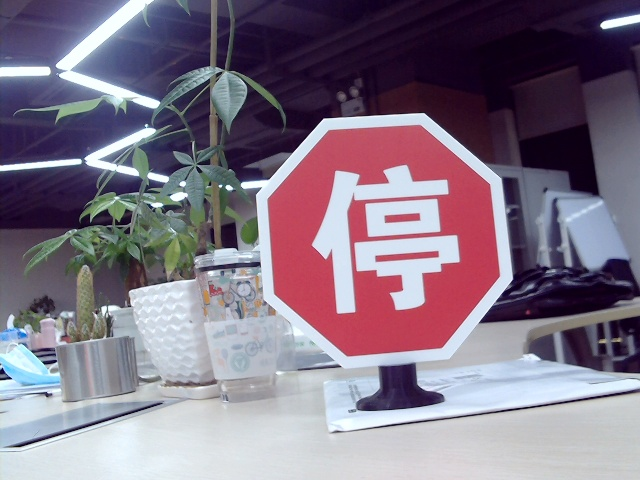stop: (308, 168, 463, 307)
